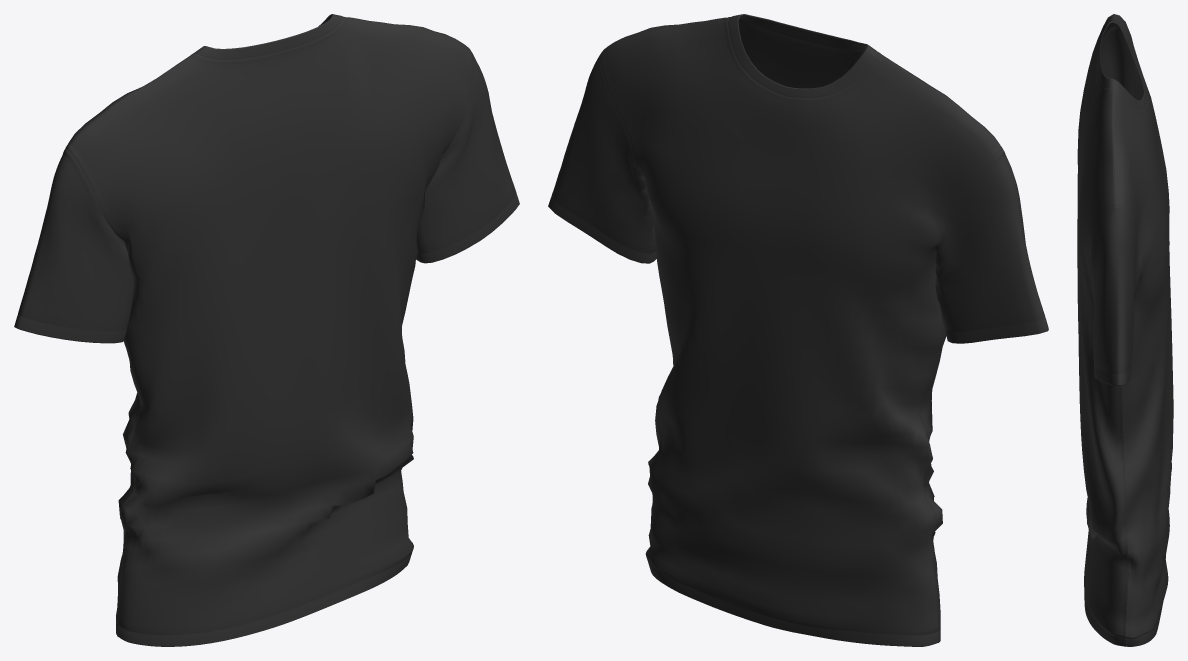
File: T_Shirt_male076.fbx
3 renders of one model, left to right at view 1: azimuth 30°, elevation 25°; view 2: azimuth 150°, elevation 25°; view 3: azimuth 270°, elevation 25°, orthographic. The views are drawn at different scales.
Parts seen in each view (by area): view 1: T_Shirt_male076; view 2: T_Shirt_male076; view 3: T_Shirt_male076.
Boxes of the visible parts, x1=… form: T_Shirt_male076: x1=14, y1=14, x2=519, y2=646; T_Shirt_male076: x1=548, y1=14, x2=1048, y2=646; T_Shirt_male076: x1=1077, y1=14, x2=1173, y2=646.
Size of the model in its own units: 19.1 by 21.2 by 3.39.
